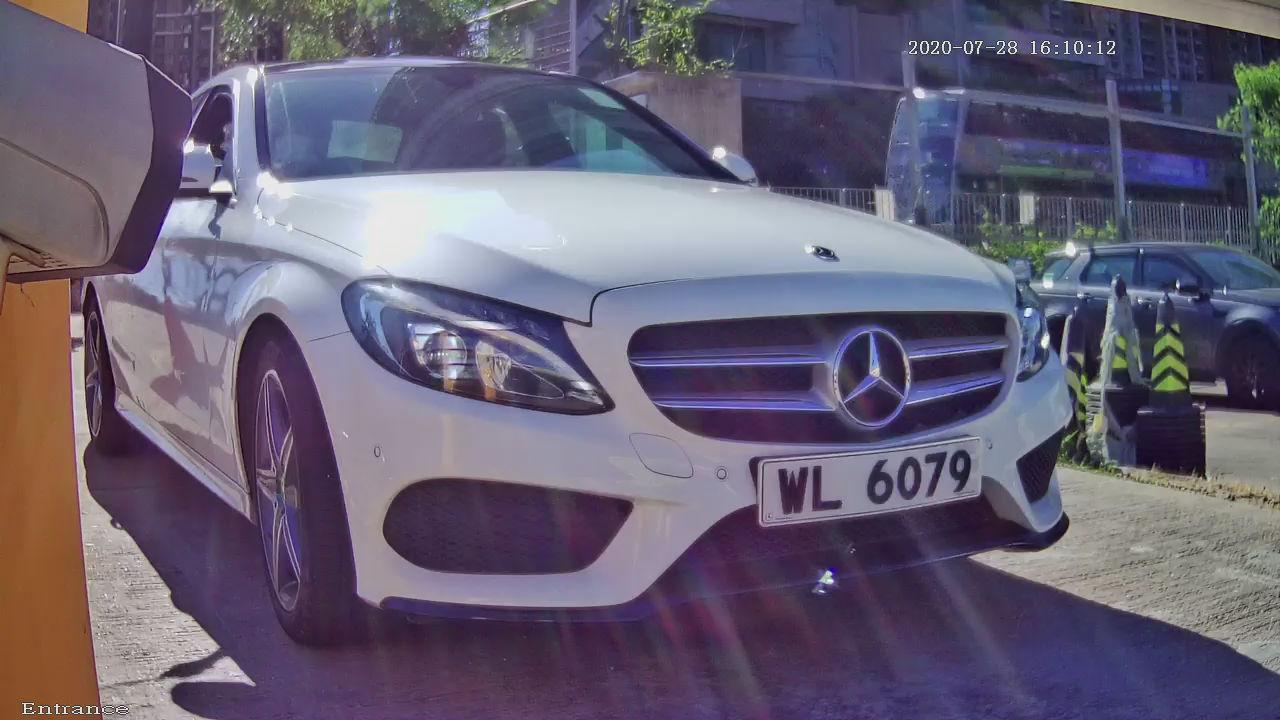privatecar: (81, 29, 1206, 695)
